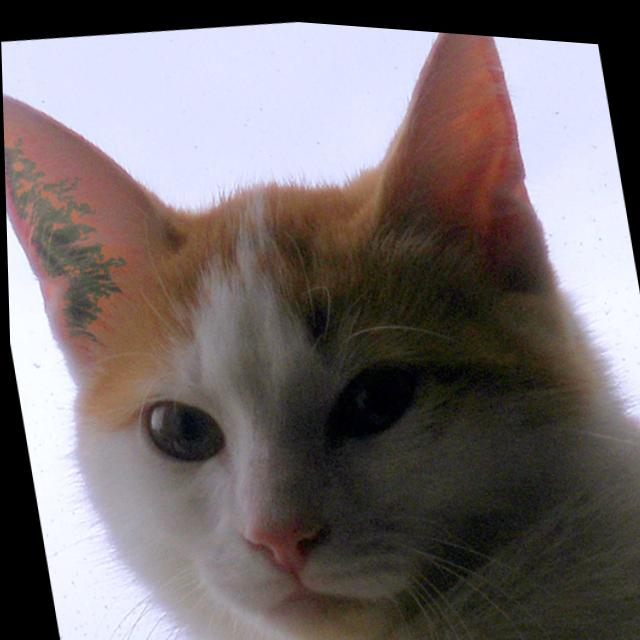animals: (0, 0, 588, 613)
